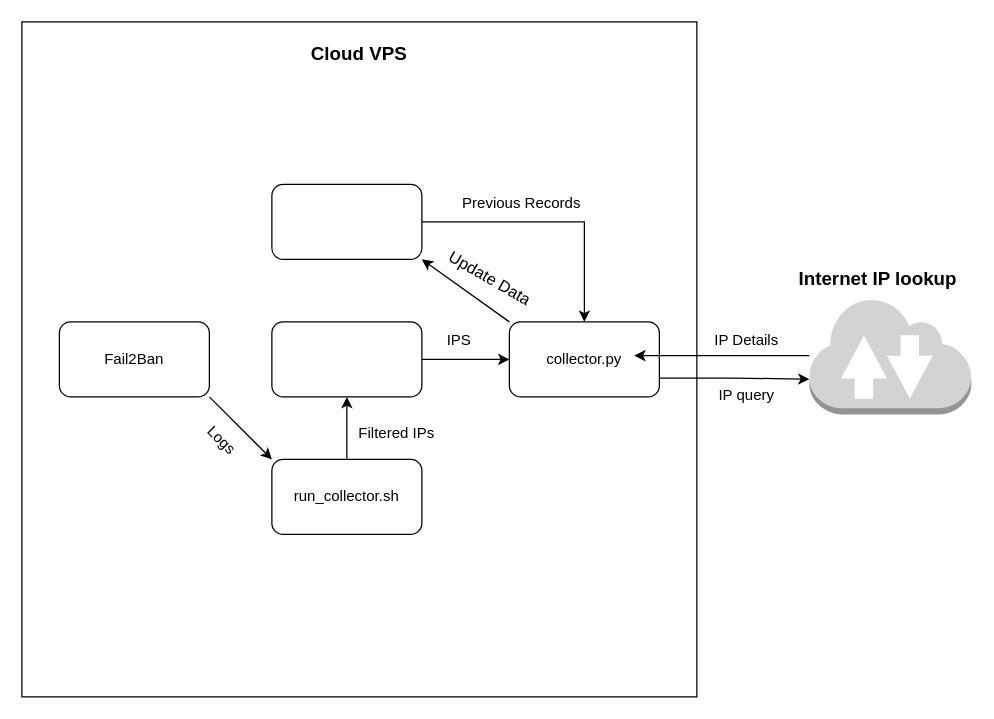
Some shapes in this 994 by 719 pixel diagram are drawn without their labels. The shapes that lost their labels are listed below. From the top down, each one's centre as x and y in pixels, then its label:
At pixel 346 221: "attackers.csv".
At pixel 346 359: "banned_ips.txt".
